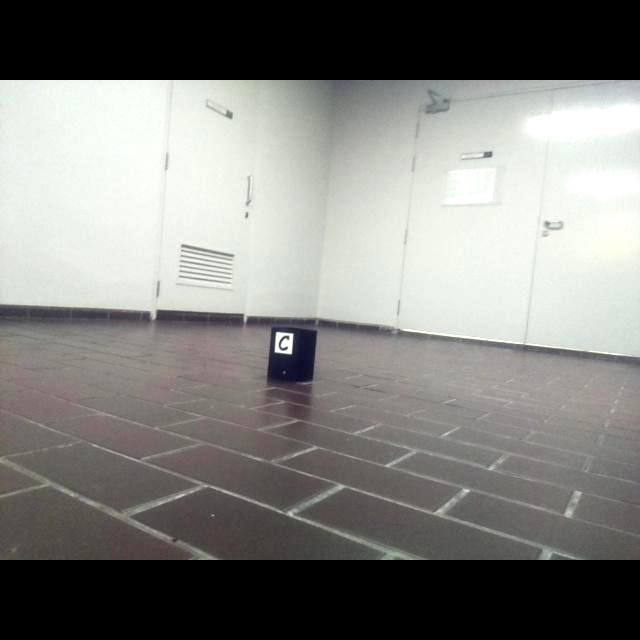C: (279, 335, 290, 351)
